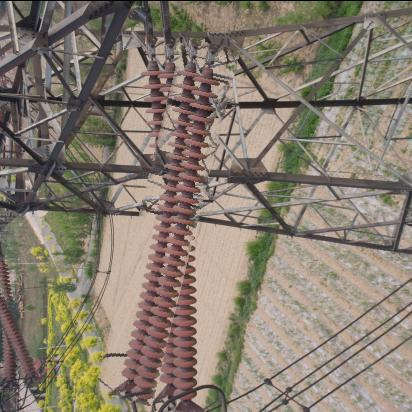insulator: (117, 37, 220, 406), (1, 255, 29, 390)
